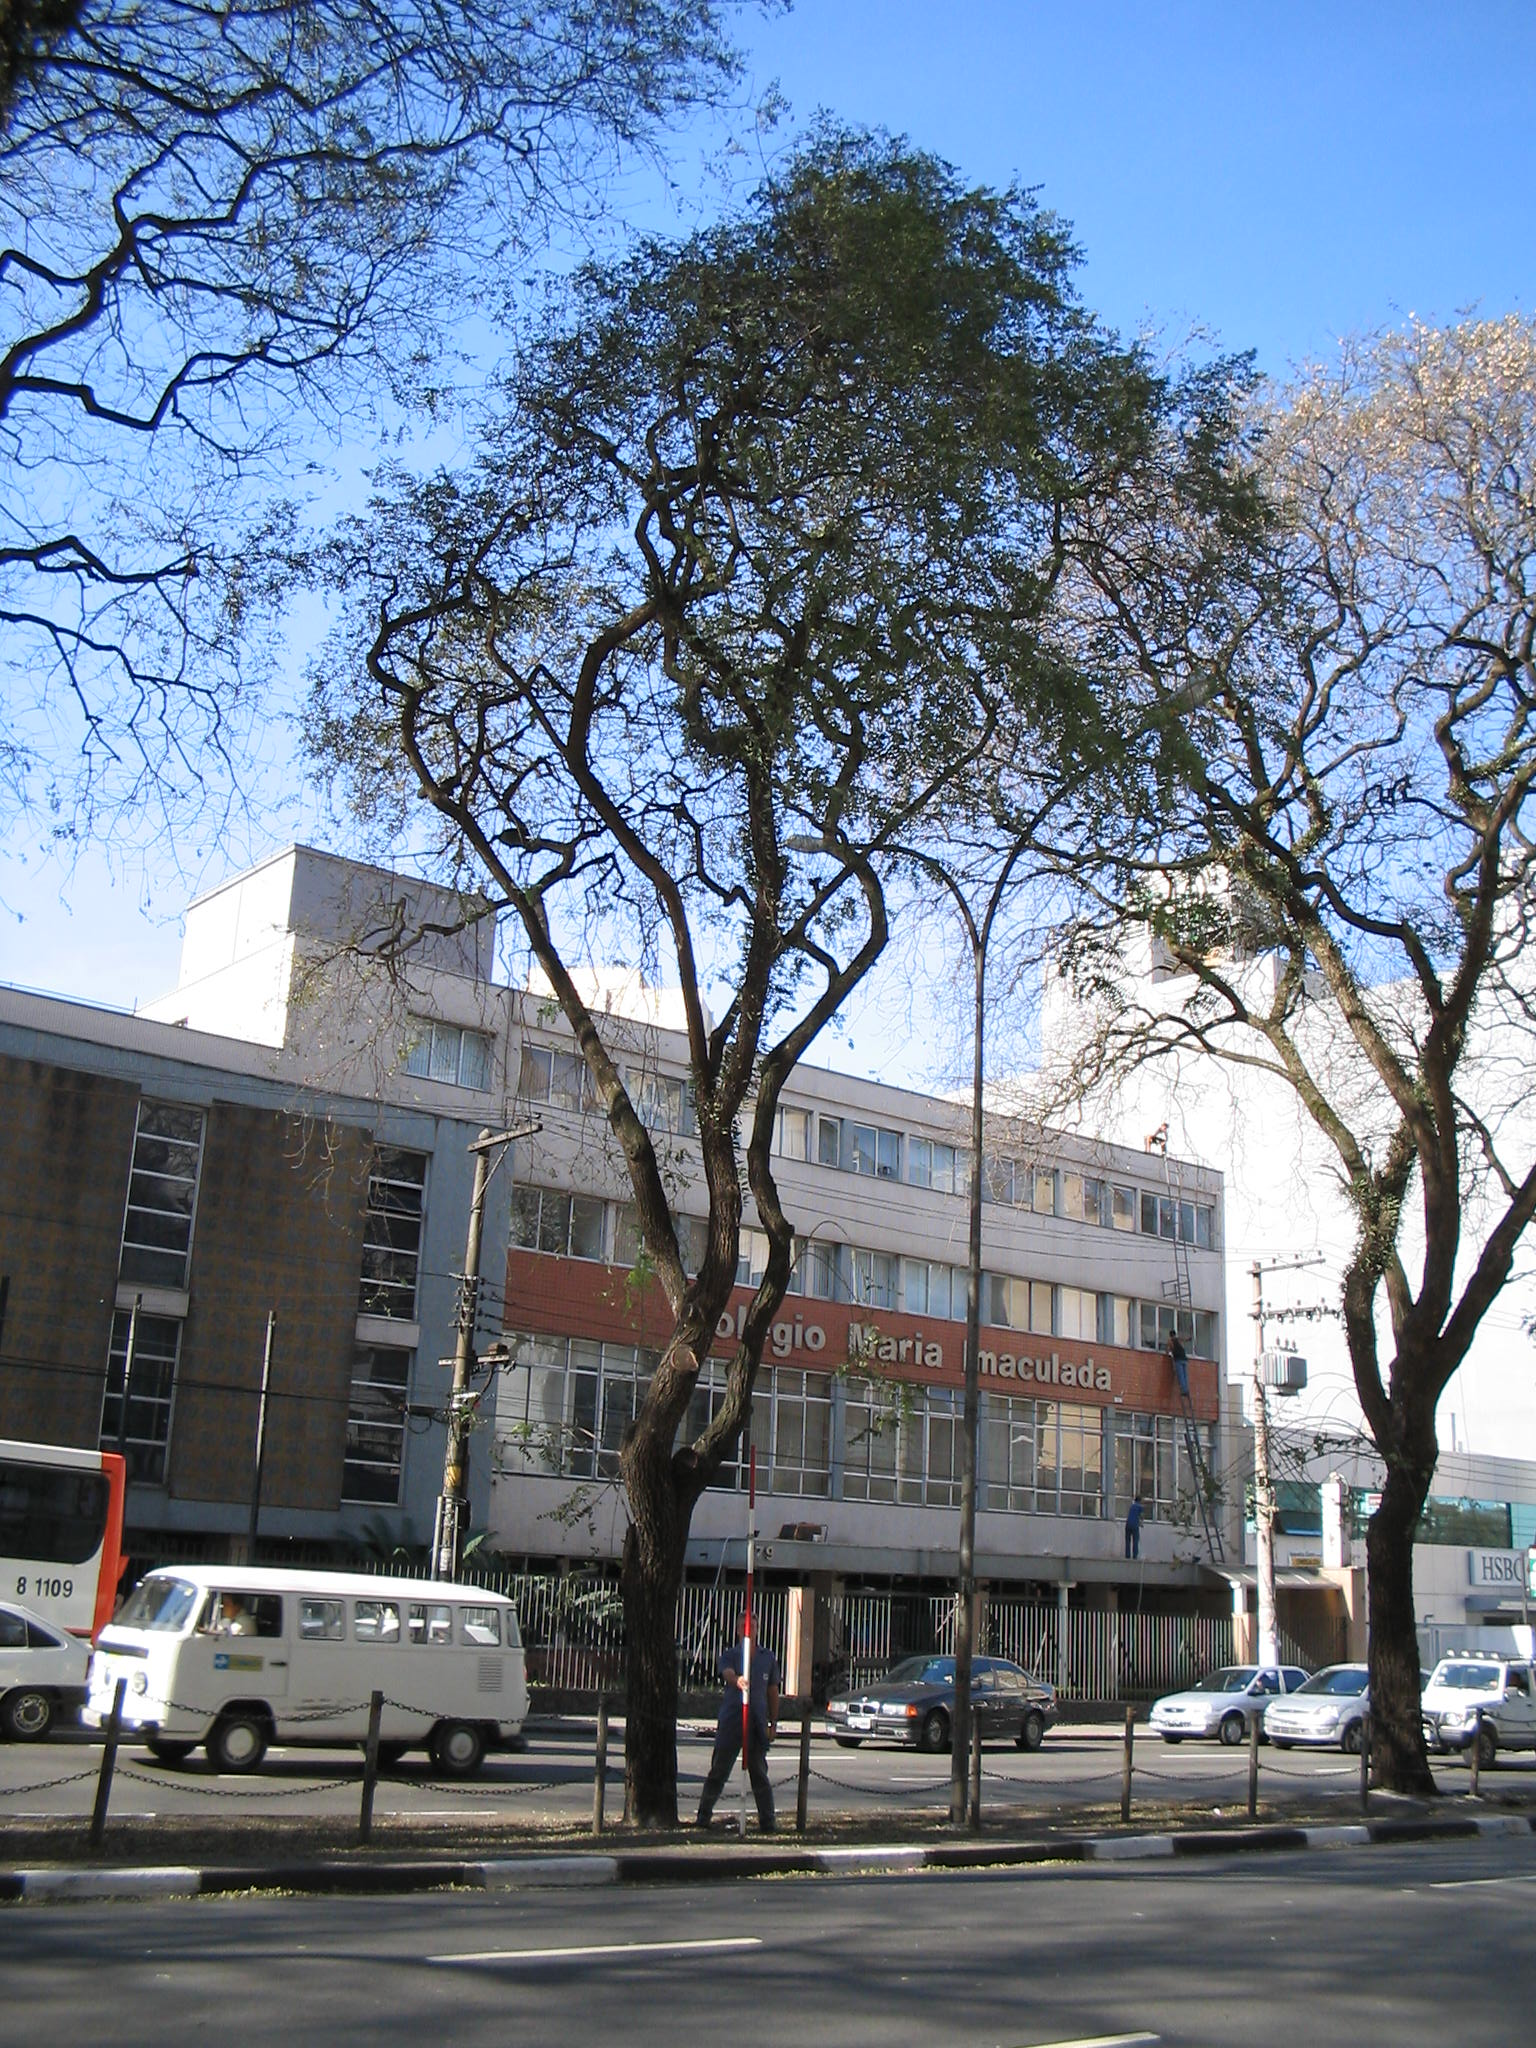crown: (279, 110, 1262, 930), (1000, 293, 1526, 1155)
stem: (1321, 1456, 1462, 1798), (587, 1485, 720, 1827)
stick: (721, 1443, 771, 1835)
tree: (282, 106, 1267, 1827), (1000, 289, 1534, 1804)
